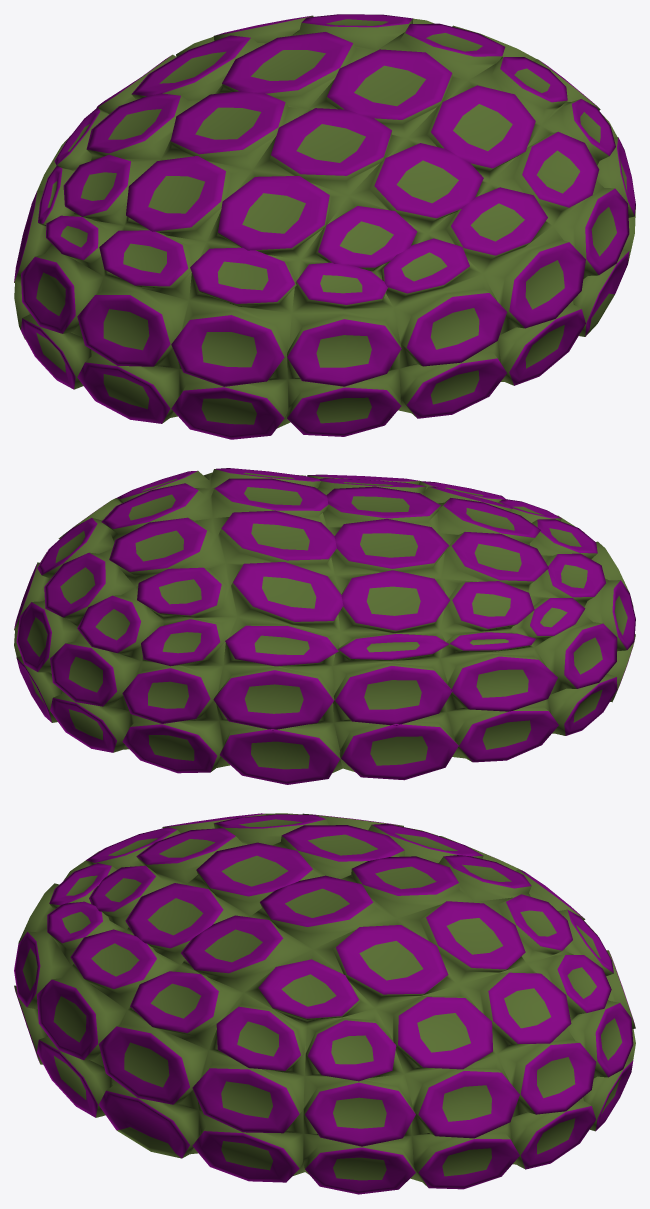
The model's file is Stone.fbx.
The picture shows the model from 3 angles, top to bottom: view 1: azimuth 30°, elevation 25°; view 2: azimuth 150°, elevation 25°; view 3: azimuth 270°, elevation 25°; orthographic projection. The views are drawn at different scales.
Visible parts, largest first — view 1: Cube.009; view 2: Cube.009; view 3: Cube.009.
Part boxes in pixels (x1,y1,x2,y2): Cube.009: [14, 14, 635, 439]; Cube.009: [14, 468, 635, 784]; Cube.009: [14, 813, 635, 1194].
Bounding box in the file's own units: 158 × 61.54 × 149.
